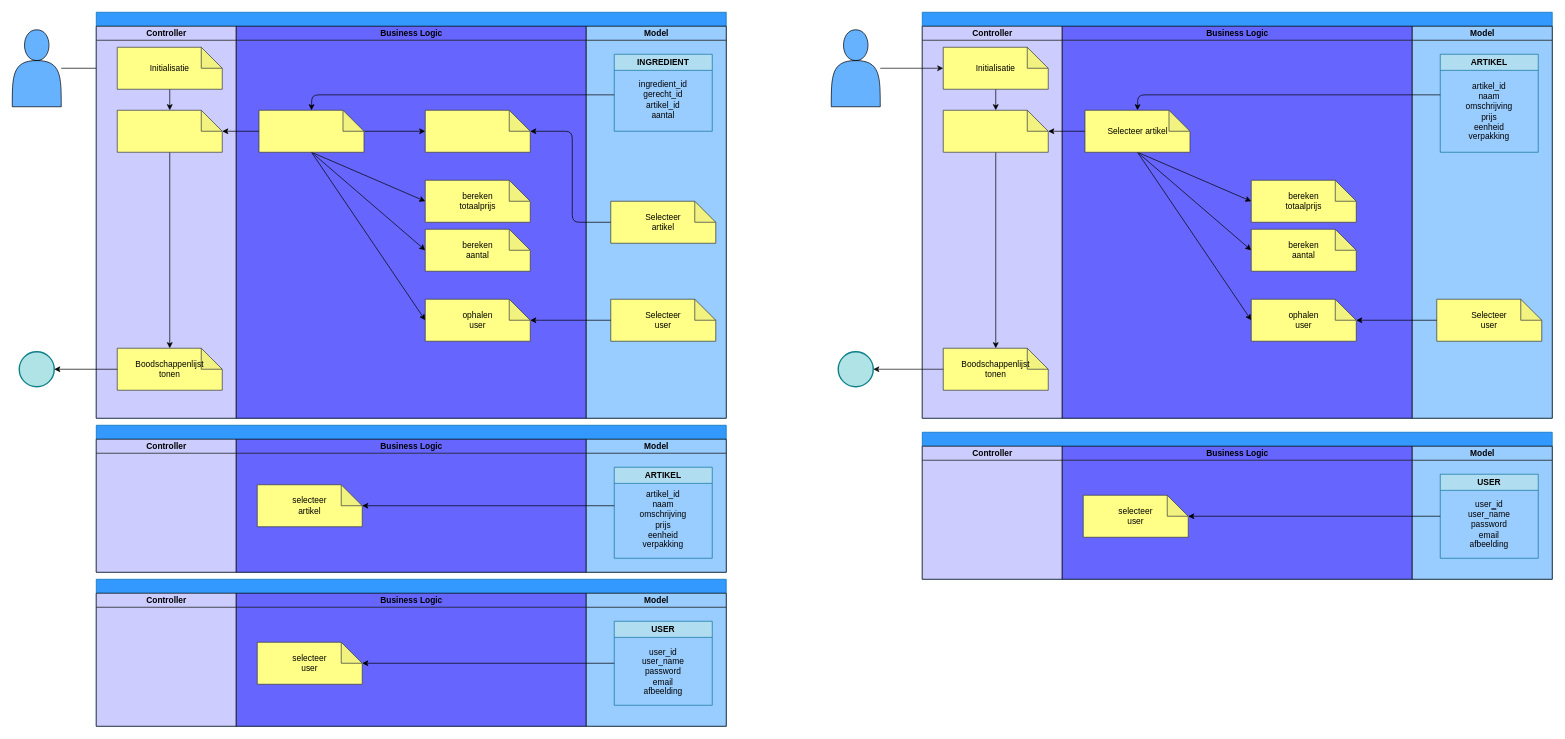
Some shapes in this 1565 by 739 pixel diagram are drawn without their labels. Each missing label, with the box of its shape:
Artikel verwijderen uit boodschappenlijst: (943, 110, 1048, 152)
Boodschappenlijst ophalen: (117, 110, 222, 152)
ophalen artikel: (425, 110, 530, 152)
Selecteer ingredient: (258, 110, 364, 152)
